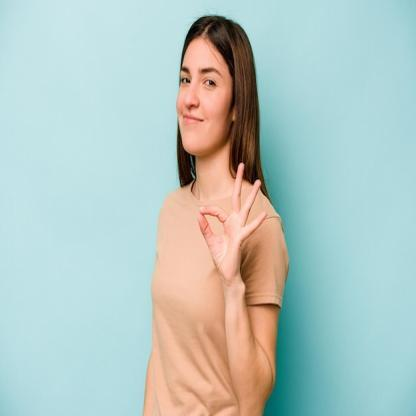ok: (192, 158, 268, 276)
